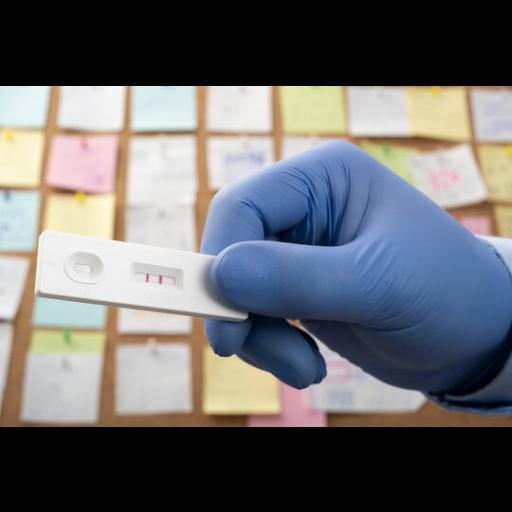Pos: (40, 231, 250, 318)
